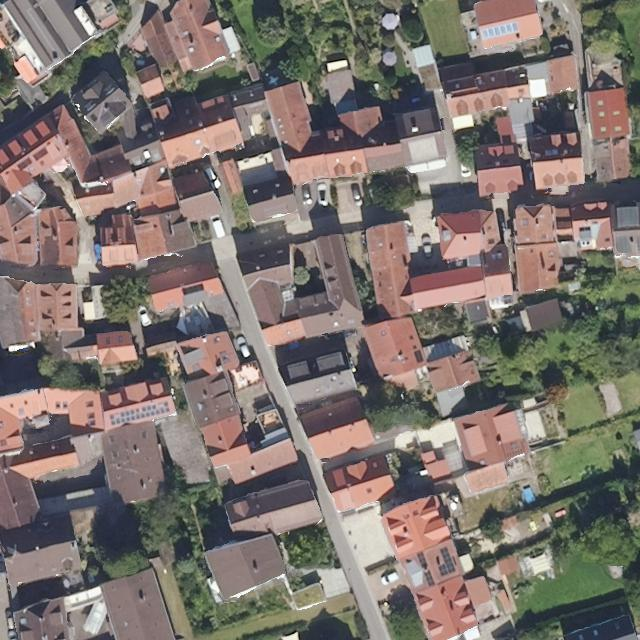PV: (109, 399, 172, 427), (481, 20, 519, 41), (416, 551, 436, 588), (437, 545, 457, 577)
